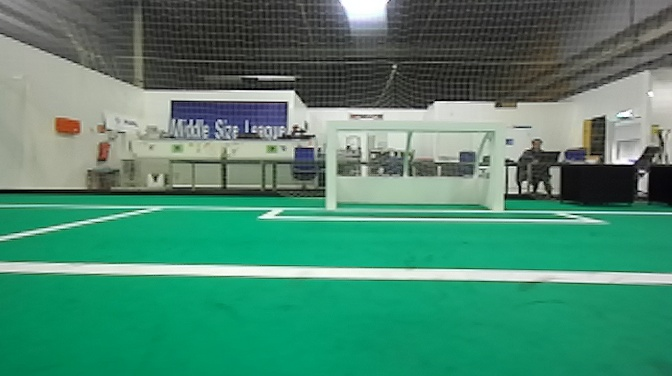goalpost: (485, 120, 507, 210), (324, 119, 335, 210)
